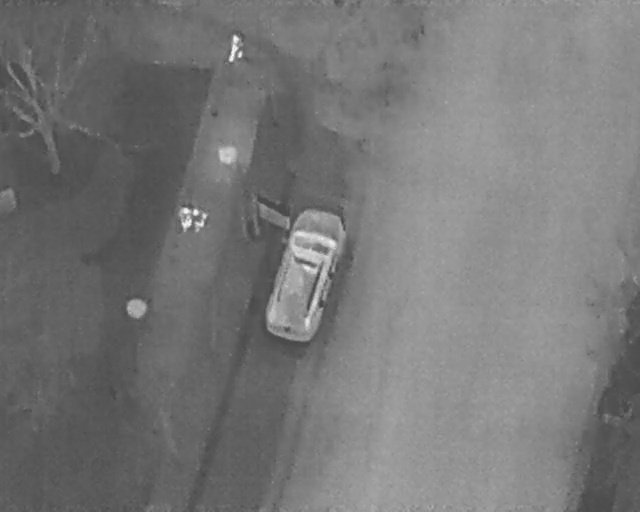Car: (257, 202, 356, 349)
Person: (229, 30, 244, 66), (177, 204, 193, 233), (192, 207, 207, 236)
